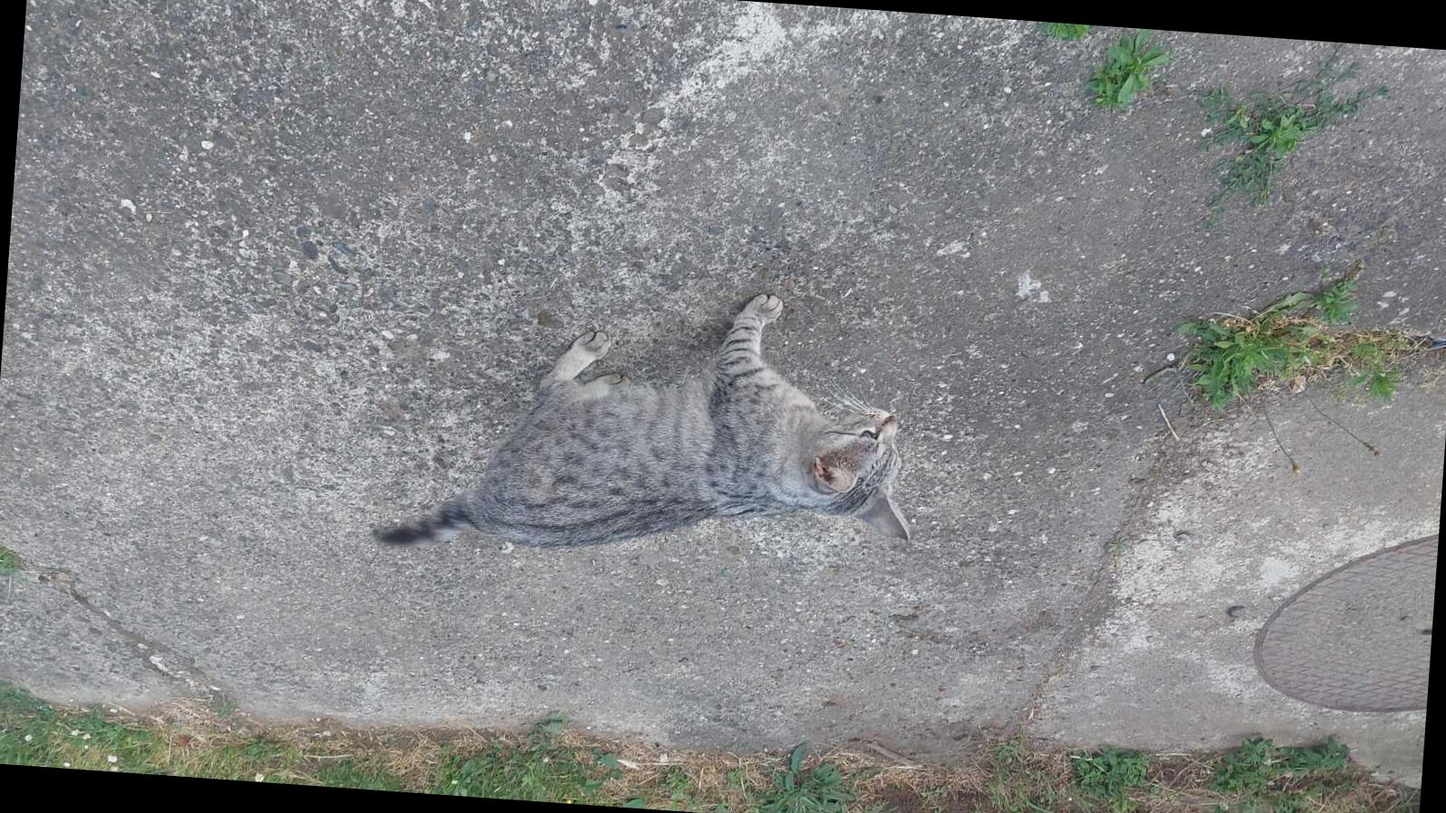macka: (367, 263, 930, 587)
